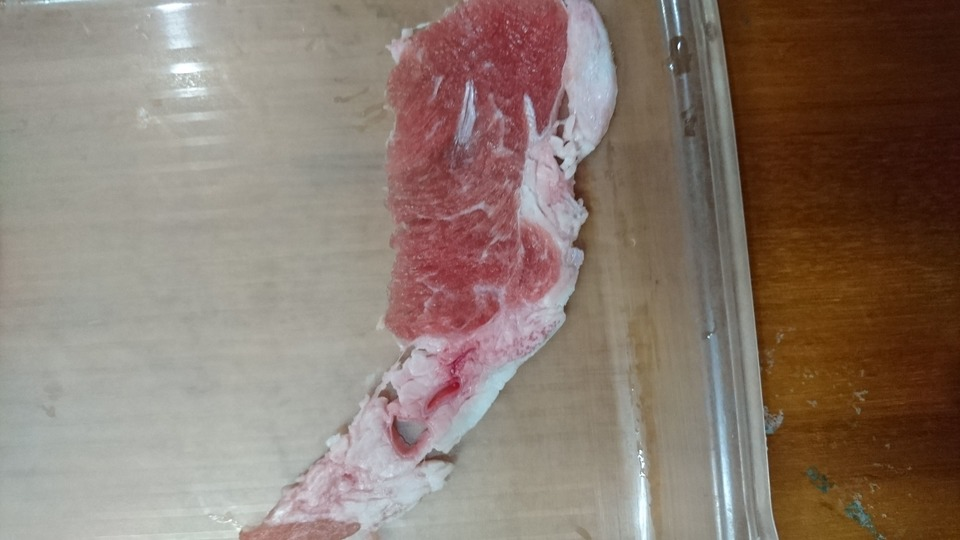restructured meat: (273, 4, 618, 540)
